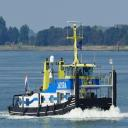tugboat: (8, 21, 119, 120)
